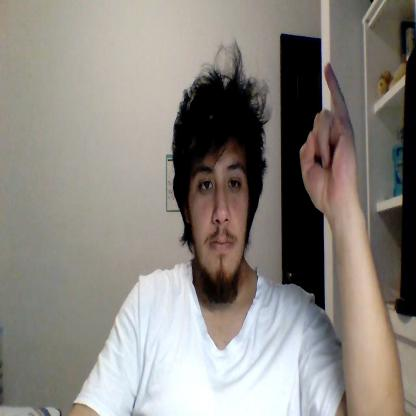I: (300, 63, 358, 212)
